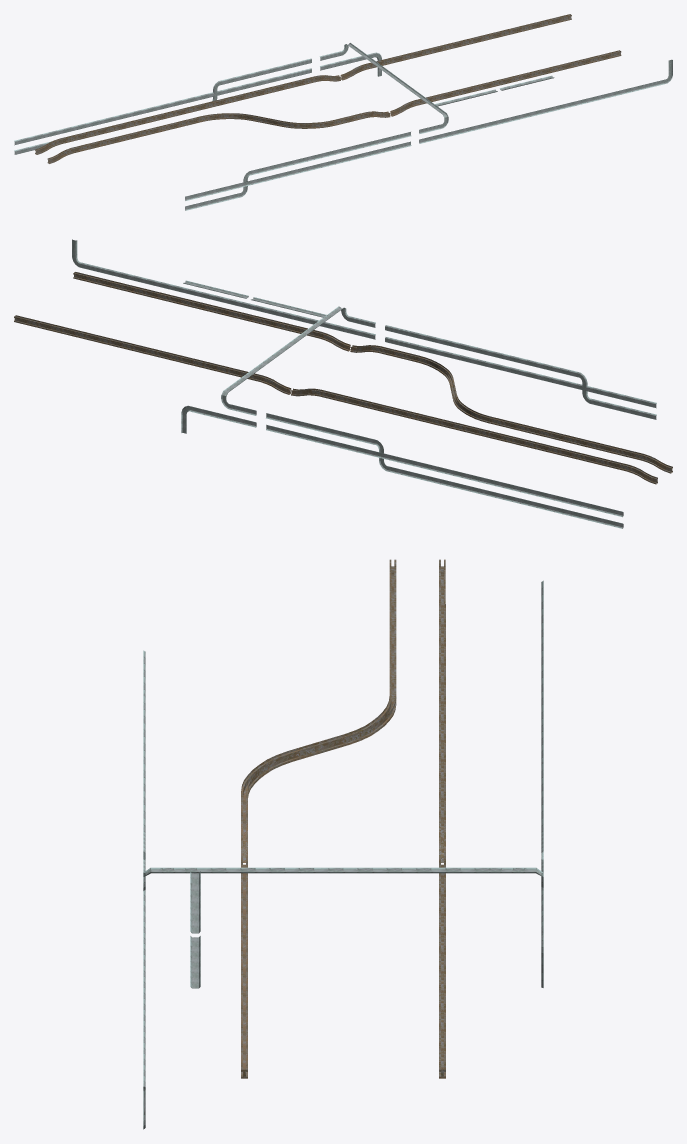
Rendered from acpipes1_sfs.obj.
3 renders of one model, top to bottom at view 1: azimuth 30°, elevation 25°; view 2: azimuth 150°, elevation 25°; view 3: azimuth 270°, elevation 25°, orthographic. The views are drawn at different scales.
Parts seen in each view (by area): view 1: acpipes1_SFS; view 2: acpipes1_SFS; view 3: acpipes1_SFS.
Boxes of the visible parts, <box> form: acpipes1_SFS: <box>14,14,672,210</box>; acpipes1_SFS: <box>14,239,672,528</box>; acpipes1_SFS: <box>143,559,543,1129</box>.
Size of the model in its own units: 85.46 by 6.1 by 26.33.
2 materials, 2 textured.
